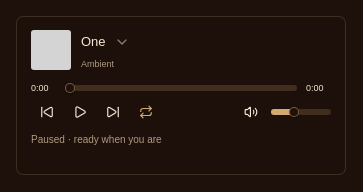
Scenario: room audio › handles rejected playback without claiming the track is playing
Step 1. Click the button named "Play ambient audio" → click(80, 112), box [64,95,96,129]
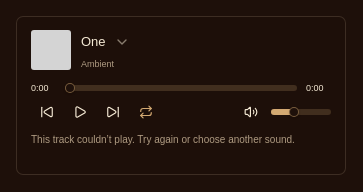
Result: the message shows "couldn’t play" at [31,134,295,145]
